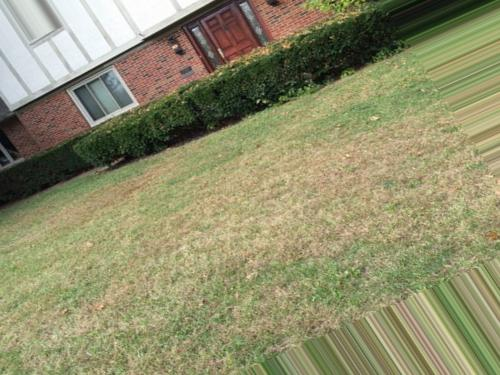patch: (244, 150, 371, 213), (375, 133, 451, 201), (182, 192, 258, 240), (88, 189, 156, 213)
